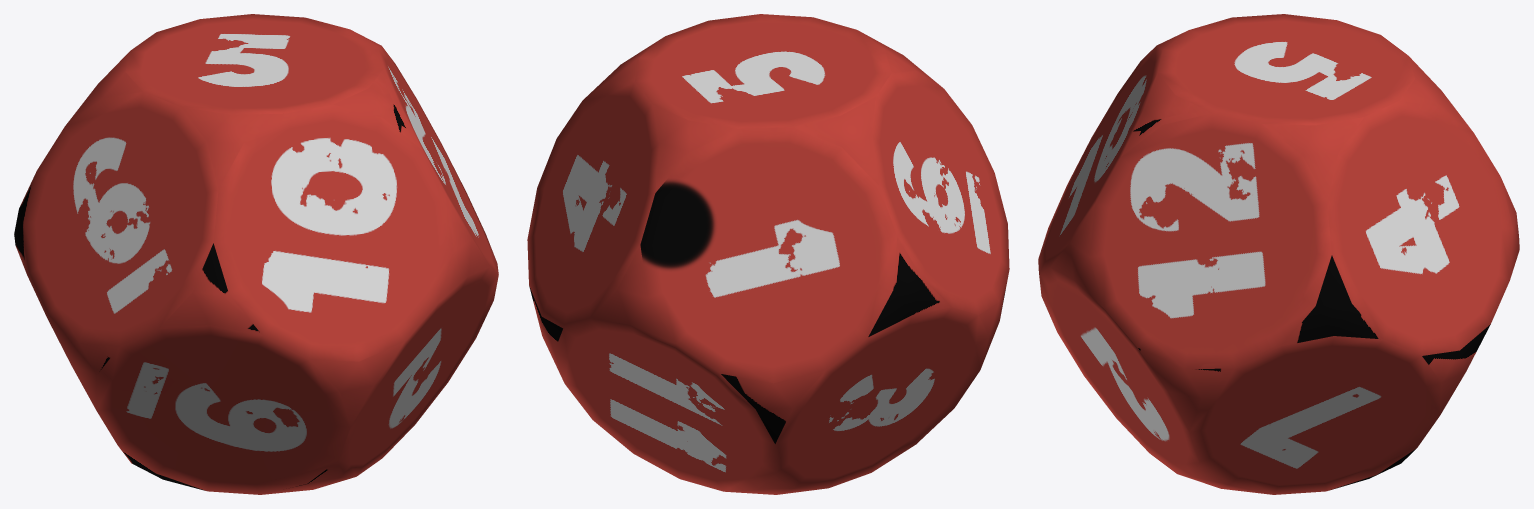
The picture shows the model from 3 angles, left to right: view 1: azimuth 30°, elevation 25°; view 2: azimuth 150°, elevation 25°; view 3: azimuth 270°, elevation 25°; orthographic projection.
Parts seen in each view (by area): view 1: Untitled_game; view 2: Untitled_game; view 3: Untitled_game.
Boxes of the visible parts, x1,y1,x2,y2 form: Untitled_game: (14, 14, 498, 494); Untitled_game: (527, 14, 1009, 494); Untitled_game: (1038, 14, 1519, 494).
Size of the model in its own units: 3.09 by 2.68 by 3.08.
